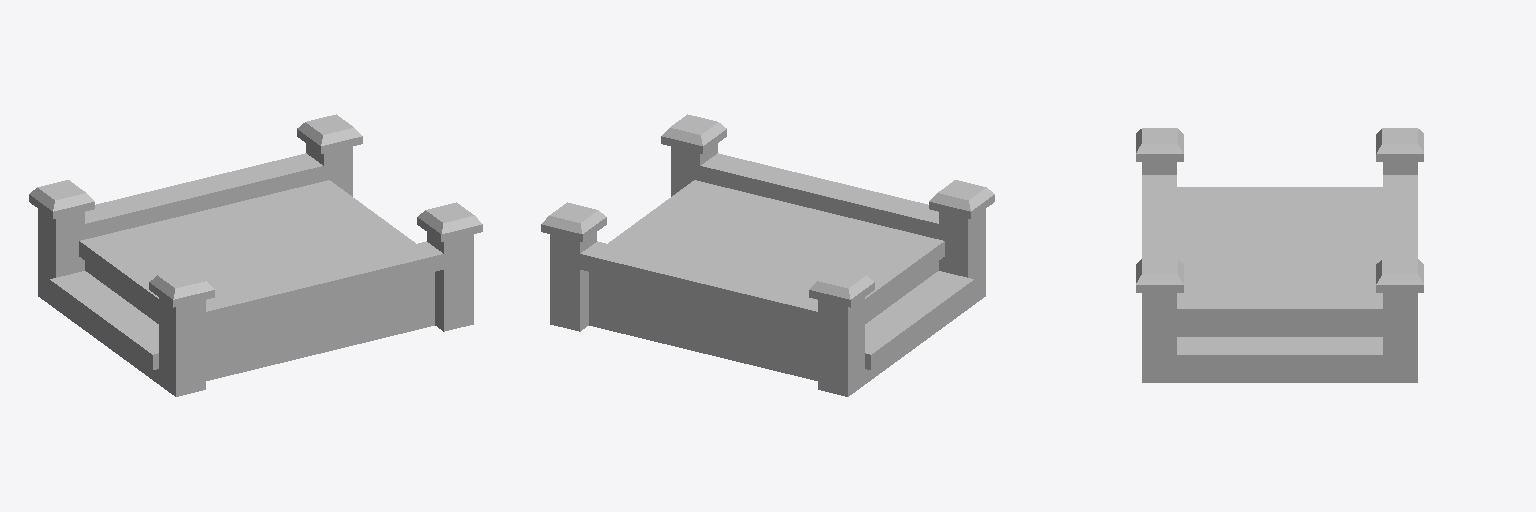
File: bridge_stoneNarrow.obj
3 renders of one model, left to right at view 1: azimuth 30°, elevation 25°; view 2: azimuth 150°, elevation 25°; view 3: azimuth 270°, elevation 25°, orthographic.
Visible parts, largest first — view 1: bridge_stoneNarrow; view 2: bridge_stoneNarrow; view 3: bridge_stoneNarrow.
Part boxes in pixels (x1,y1,x2,y2): bridge_stoneNarrow: (29, 114, 482, 396); bridge_stoneNarrow: (541, 114, 994, 396); bridge_stoneNarrow: (1136, 128, 1423, 382).
Size of the model in its own units: 1.04 by 0.35 by 0.84.